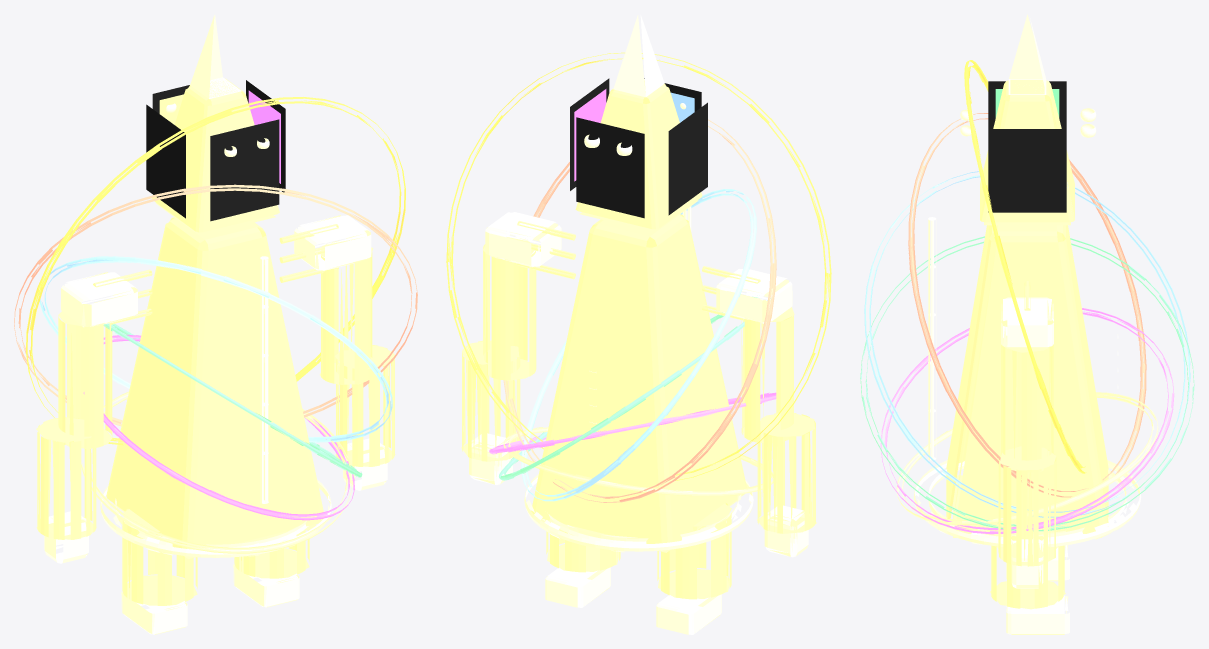
Rendered from foundation_model_boss_lod1.glb.
3 views of the same model, side by side, from view 1: azimuth 30°, elevation 25°; view 2: azimuth 150°, elevation 25°; view 3: azimuth 270°, elevation 25° (orthographic).
Visible parts, largest first — view 1: GolemBody, UpperArm_L, GolemHead, Forearm_L, AudioPanel_Frame, UpperArm_R, Forearm_R, CapRing_REASON, Thigh_L, CapRing_VIDEO, CapRing_AUDIO, Shoulder_L (+14 smaller); view 2: GolemBody, GolemHead, UpperArm_R, TextPanel_Frame, Forearm_L, CapRing_REASON, UpperArm_L, Thigh_L, Forearm_R, CapRing_VIDEO, CapRing_AUDIO, CodePanel_Frame (+14 smaller); view 3: GolemBody, ImagePanel_Frame, Forearm_R, GolemHead, UpperArm_R, CapRing_VIDEO, CapRing_AUDIO, CapRing_IMAGE, CapRing_CODE, WaistBelt, Thigh_R, CapRing_REASON (+6 smaller).
Boxes of the visible parts, x1=… form: GolemBody: x1=106, y1=217, x2=323, y2=559; UpperArm_L: x1=58, y1=304, x2=112, y2=448; GolemHead: x1=152, y1=78, x2=279, y2=235; Forearm_L: x1=36, y1=417, x2=96, y2=539; AudioPanel_Frame: x1=210, y1=119, x2=279, y2=221; UpperArm_R: x1=319, y1=240, x2=373, y2=384; Forearm_R: x1=335, y1=345, x2=395, y2=466; CapRing_REASON: x1=26, y1=97, x2=405, y2=445; Thigh_L: x1=122, y1=509, x2=197, y2=605; CapRing_VIDEO: x1=14, y1=184, x2=417, y2=426; CapRing_AUDIO: x1=39, y1=256, x2=392, y2=442; Shoulder_L: x1=60, y1=272, x2=137, y2=327; GolemBody: x1=531, y1=214, x2=746, y2=552; GolemHead: x1=575, y1=79, x2=702, y2=232; UpperArm_R: x1=483, y1=237, x2=536, y2=380; TextPanel_Frame: x1=576, y1=117, x2=644, y2=218; Forearm_L: x1=757, y1=413, x2=816, y2=533; CapRing_REASON: x1=446, y1=52, x2=831, y2=480; UpperArm_L: x1=741, y1=300, x2=794, y2=442; Thigh_L: x1=657, y1=503, x2=731, y2=599; Forearm_R: x1=461, y1=340, x2=520, y2=461; CapRing_VIDEO: x1=503, y1=119, x2=776, y2=502; CapRing_AUDIO: x1=521, y1=189, x2=756, y2=501; CodePanel_Frame: x1=668, y1=102, x2=707, y2=215; GolemBody: x1=946, y1=225, x2=1108, y2=537; ImagePanel_Frame: x1=988, y1=129, x2=1066, y2=212; Forearm_R: x1=998, y1=446, x2=1056, y2=566; GolemHead: x1=980, y1=79, x2=1074, y2=225; UpperArm_R: x1=1001, y1=336, x2=1053, y2=472; CapRing_VIDEO: x1=908, y1=113, x2=1146, y2=497; CapRing_AUDIO: x1=864, y1=171, x2=1190, y2=517; CapRing_IMAGE: x1=880, y1=308, x2=1174, y2=534; CapRing_CODE: x1=860, y1=236, x2=1194, y2=531; WaistBelt: x1=913, y1=460, x2=1141, y2=547; Thigh_R: x1=990, y1=528, x2=1065, y2=609; CapRing_REASON: x1=964, y1=60, x2=1086, y2=473.
Bounding box in the file's own units: 8.11 × 12.21 × 6.31.
